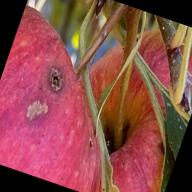Apples: (0, 6, 148, 192), (45, 8, 192, 192)
